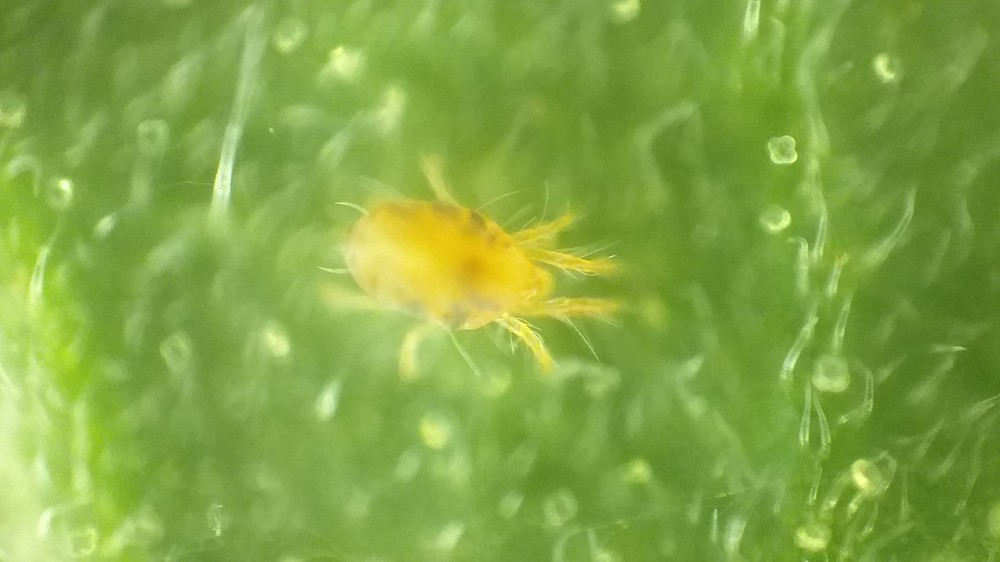Aracnido Rojo: (295, 144, 660, 399)
